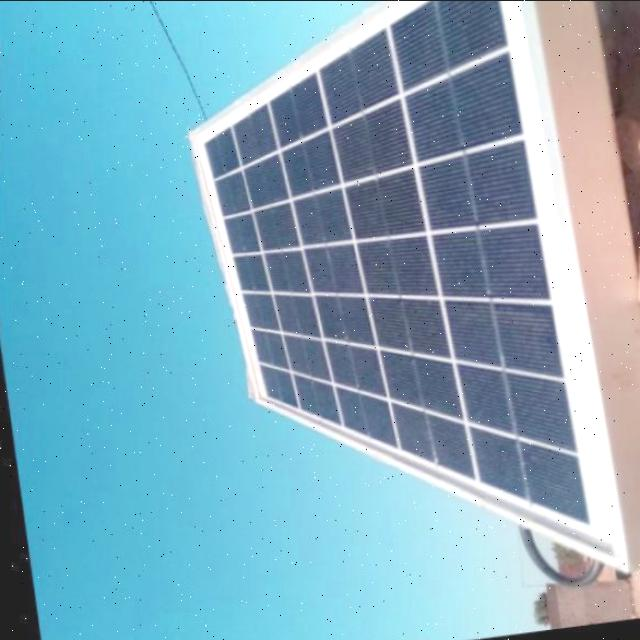Normal Solar Panel: (170, 0, 632, 617)
